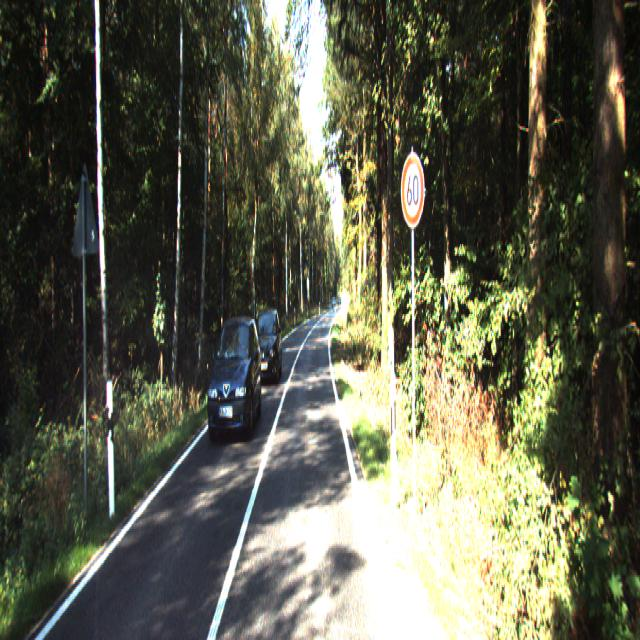Car: (206, 317, 264, 446), (251, 306, 284, 390)
